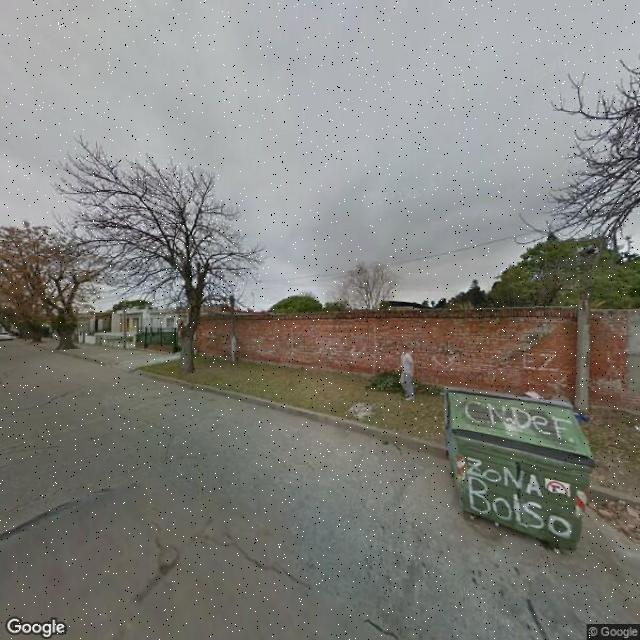garbage container: (425, 372, 608, 569)
